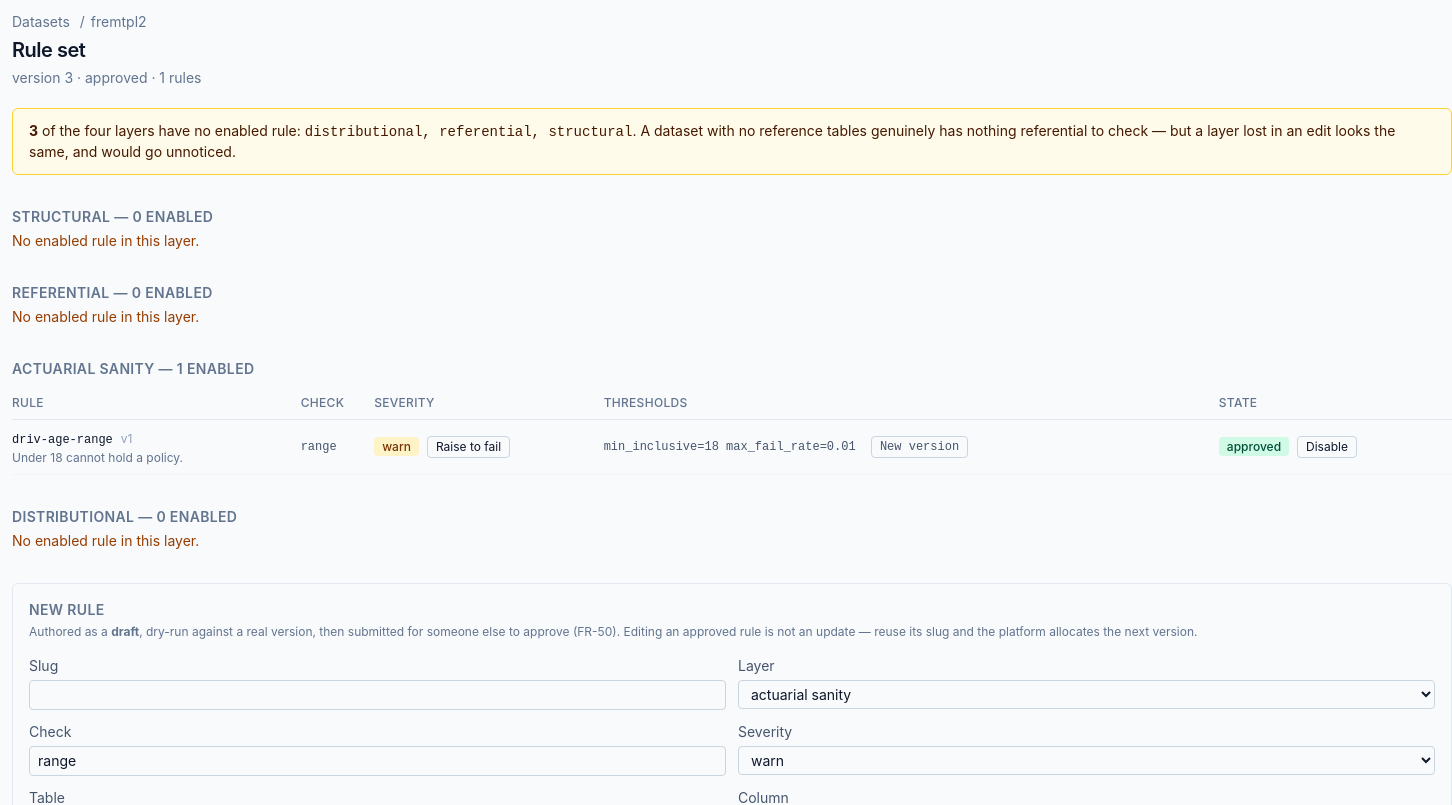
Scenario: the rule set view › explains a refused downgrade as the rule's own review, not a failed request
The width and height of the screenshot is (1452, 805).
expect the table named "actuarial_sanity" is shown: met, box [12,387,1451,475]
Click the button "Raise to fail". click: (468, 447)
box: [427,436,510,458]
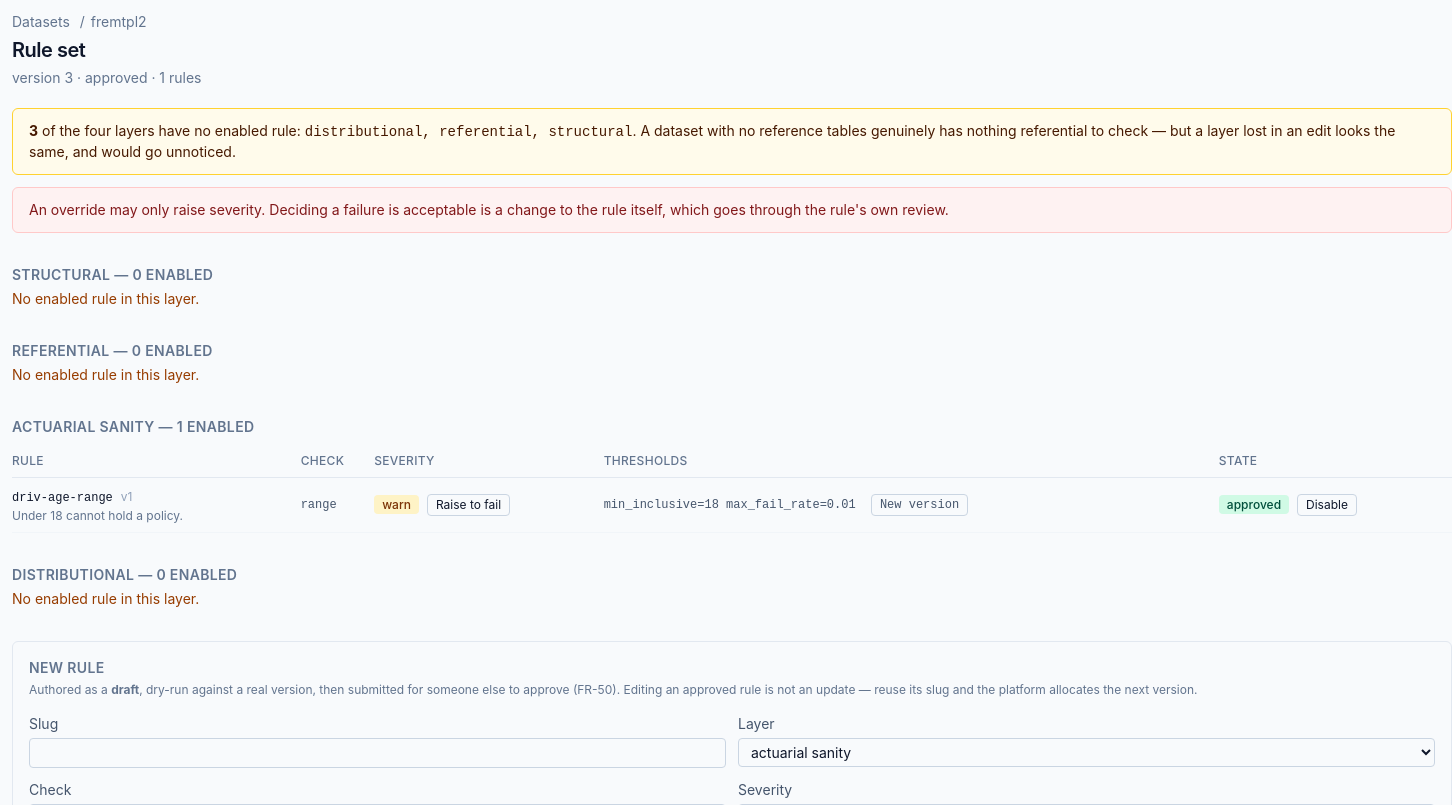
expect the message shows "may only raise severity": met, box [29,201,949,218]
